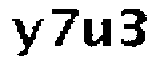3: (116, 8, 150, 48)
7: (47, 5, 79, 50)
u: (81, 17, 114, 52)
y: (7, 15, 46, 60)
